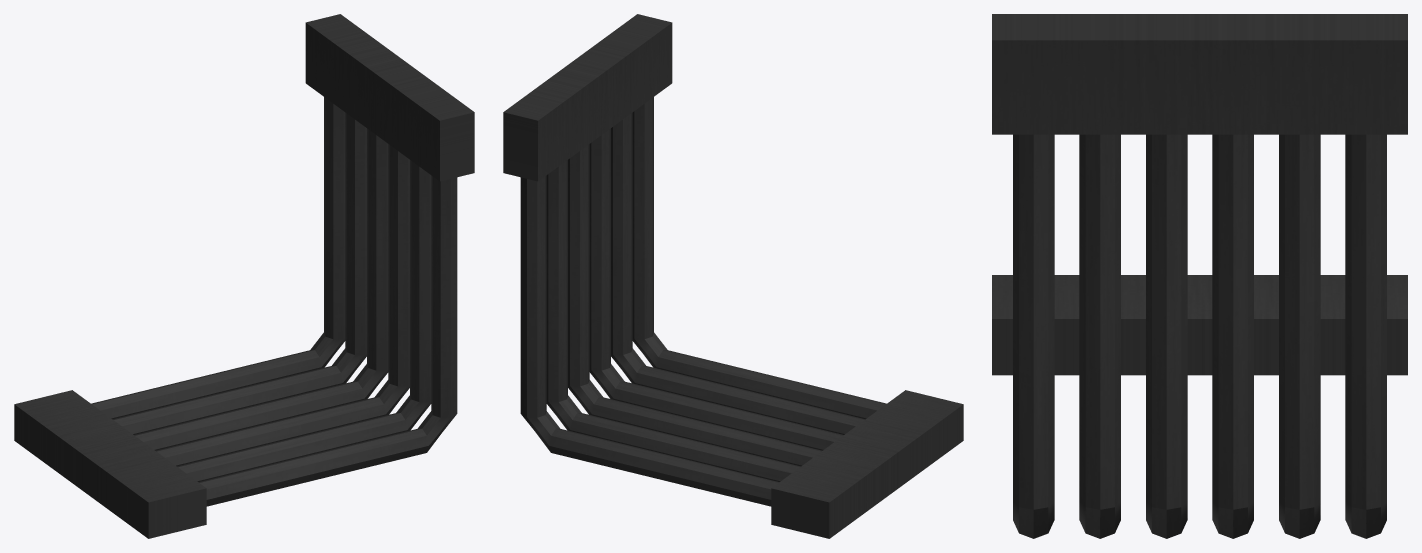
The model's file is Wires_Bend_Up_v2.fbx.
3 views of the same model, side by side, from view 1: azimuth 30°, elevation 25°; view 2: azimuth 150°, elevation 25°; view 3: azimuth 270°, elevation 25° (orthographic). The views are drawn at different scales.
Parts seen in each view (by area): view 1: polySurface57; view 2: polySurface57; view 3: polySurface57.
Part boxes in pixels (x1,y1,x2,y2): polySurface57: (14, 14, 474, 538); polySurface57: (503, 14, 963, 538); polySurface57: (992, 14, 1407, 538).
Size of the model in its own units: 28.06 by 28.54 by 20.
